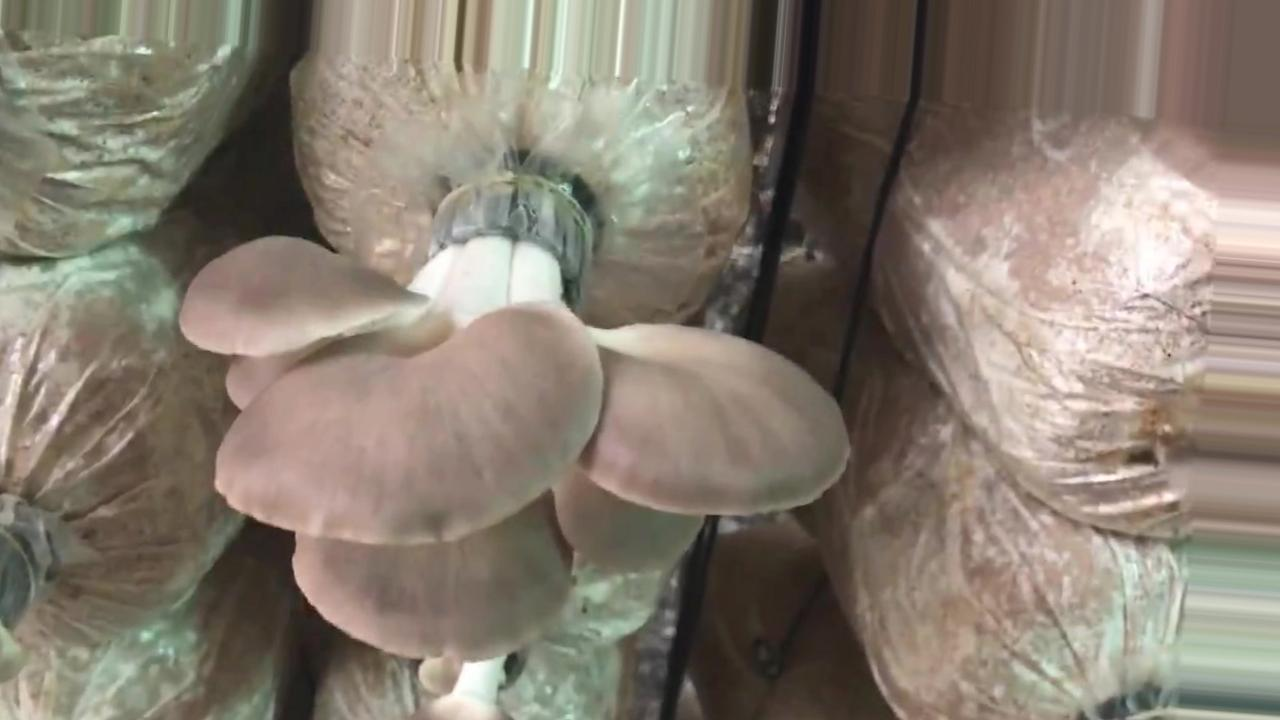nam: (177, 185, 844, 660)
